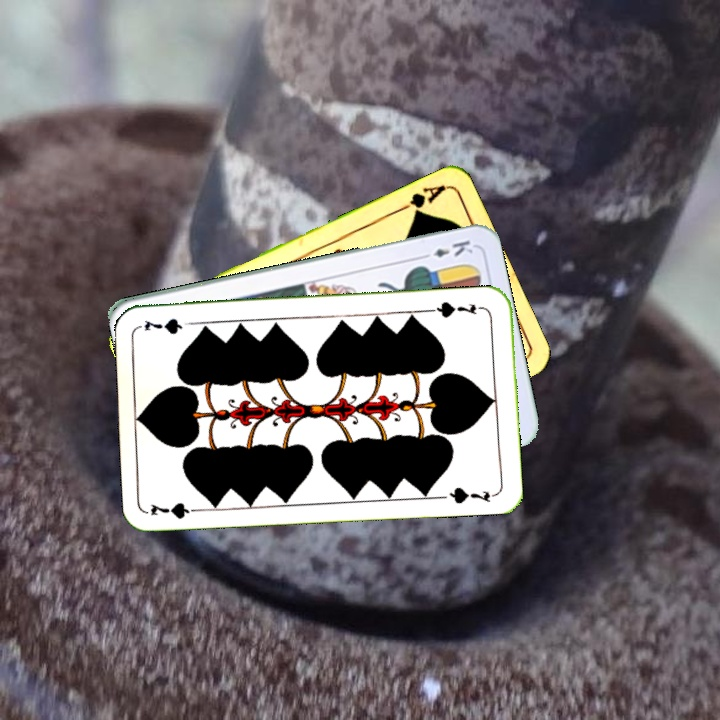EK: (416, 236, 476, 262)
G7: (147, 498, 207, 521), (428, 298, 487, 320)
GA: (392, 181, 447, 219)
